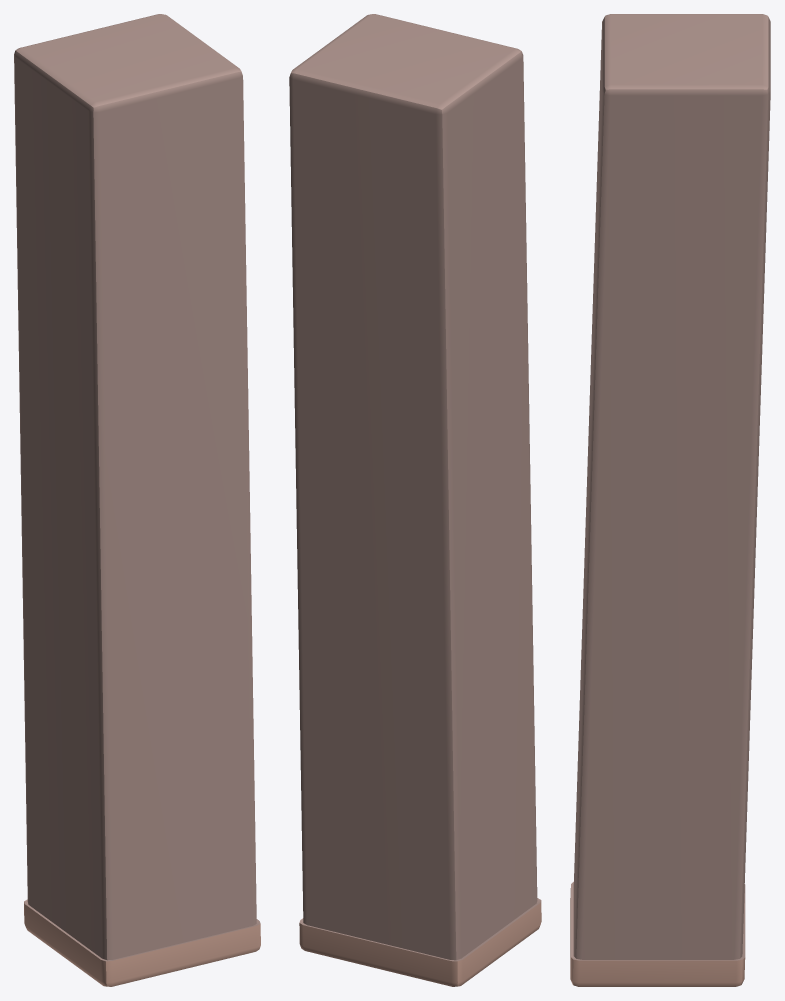
The model's file is corner.fbx.
The picture shows the model from 3 angles, left to right: view 1: azimuth 30°, elevation 25°; view 2: azimuth 150°, elevation 25°; view 3: azimuth 270°, elevation 25°; orthographic projection. The views are drawn at different scales.
Visible parts, largest first — view 1: corner; view 2: corner; view 3: corner.
Boxes of the visible parts, x1,y1,x2,y2 form: corner: (14, 14, 260, 986); corner: (289, 14, 541, 986); corner: (570, 14, 770, 986).
Size of the model in its own units: 5.18 by 27.18 by 5.49.
